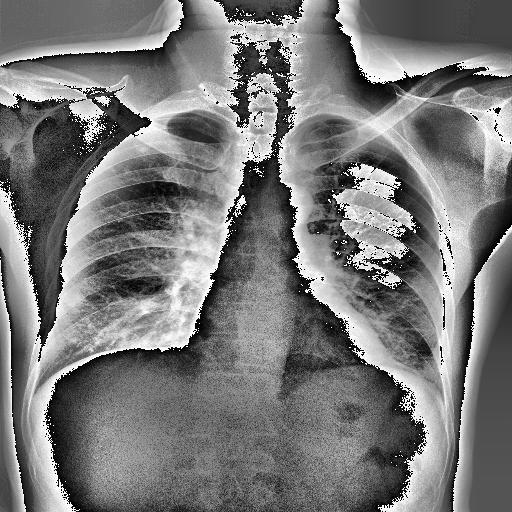7- Lung Opacity: (103, 287, 194, 347)
8- Nodule-Mass: (137, 146, 150, 153), (138, 146, 148, 154)
9- Other lesion: (103, 287, 194, 347), (136, 146, 150, 152)
